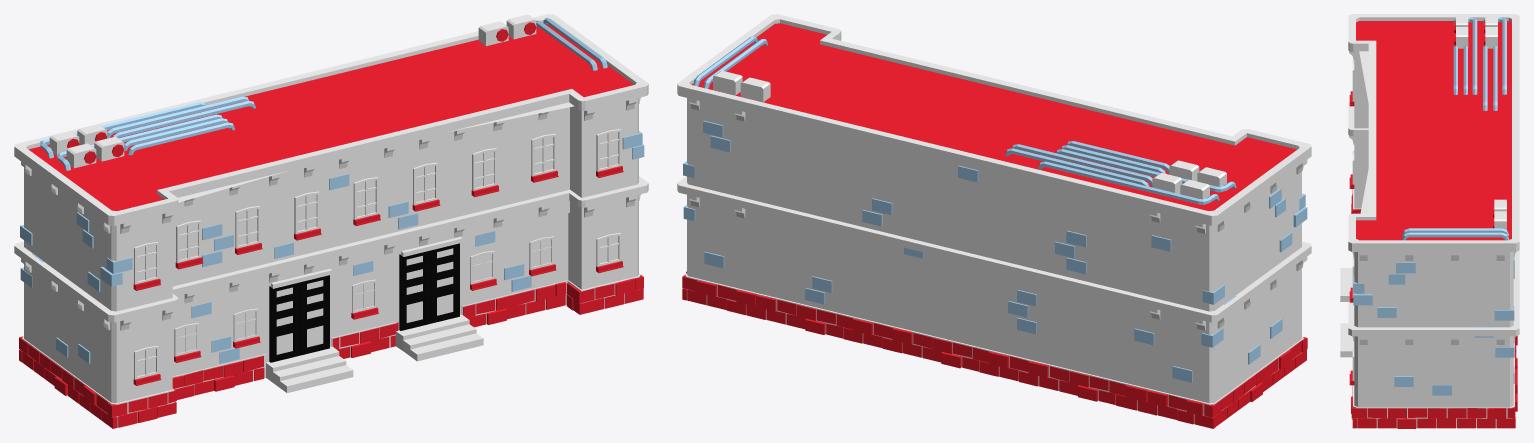
File: building_quaternius_2Story_Wide_2Doors.glb
The picture shows the model from 3 angles, left to right: view 1: azimuth 30°, elevation 25°; view 2: azimuth 150°, elevation 25°; view 3: azimuth 270°, elevation 25°; orthographic projection. The views are drawn at different scales.
Size of the model in its own units: 6.83 by 2.75 by 2.26.
Materials: 1 (1 with a texture image).
